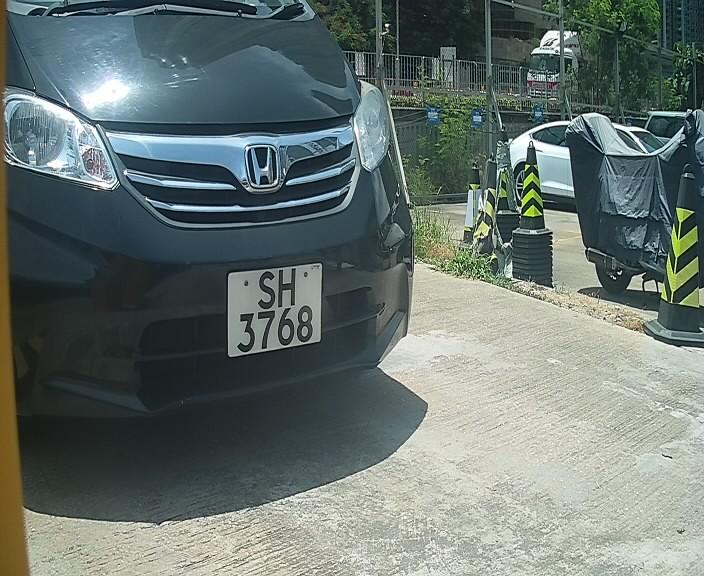License Plate: (217, 253, 327, 366)
